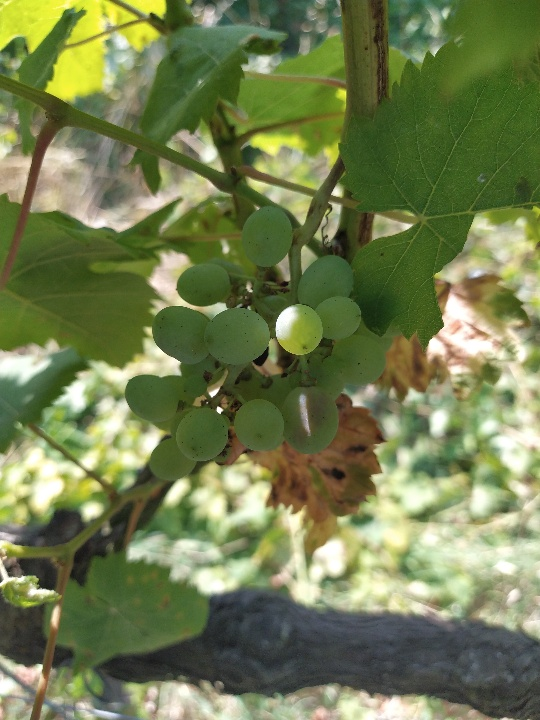grape: (122, 205, 397, 486)
